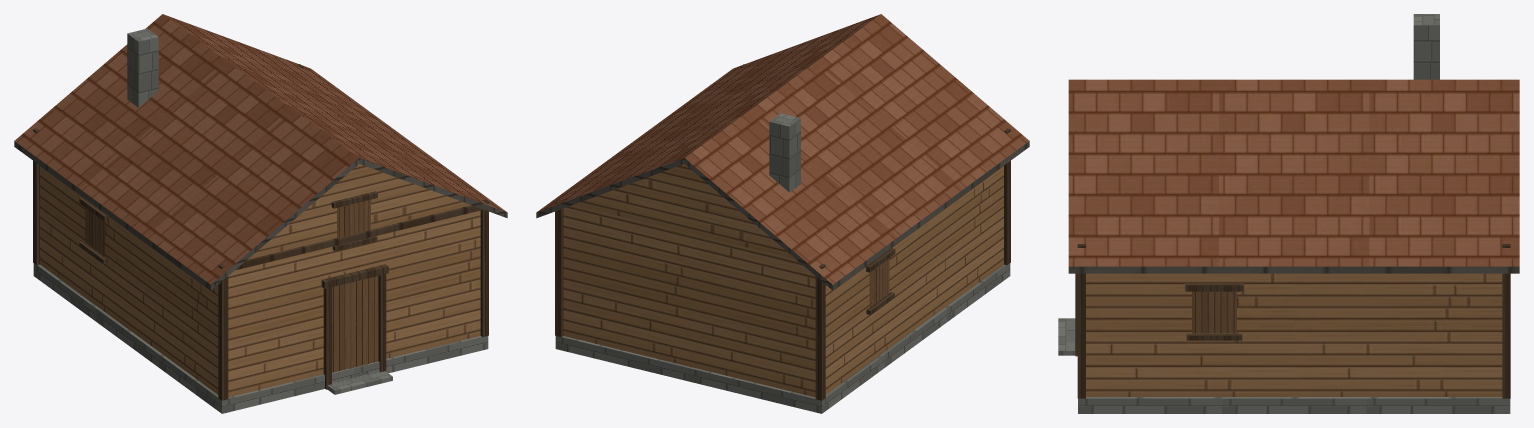
File: ae_sand_wood_large_barn_lod0.glb
The picture shows the model from 3 angles, left to right: view 1: azimuth 30°, elevation 25°; view 2: azimuth 150°, elevation 25°; view 3: azimuth 270°, elevation 25°; orthographic projection. The views are drawn at different scales.
Parts seen in each view (by area): view 1: ae_sand_wood_large_barn_lod0; view 2: ae_sand_wood_large_barn_lod0; view 3: ae_sand_wood_large_barn_lod0.
Part boxes in pixels (left/top/right/bottom): ae_sand_wood_large_barn_lod0: left=14, top=14, right=507, bottom=413; ae_sand_wood_large_barn_lod0: left=536, top=14, right=1029, bottom=413; ae_sand_wood_large_barn_lod0: left=1058, top=14, right=1519, bottom=413.
Bounding box in the file's own units: 7.4 × 5.95 × 8.7.
1 material, 1 textured.
